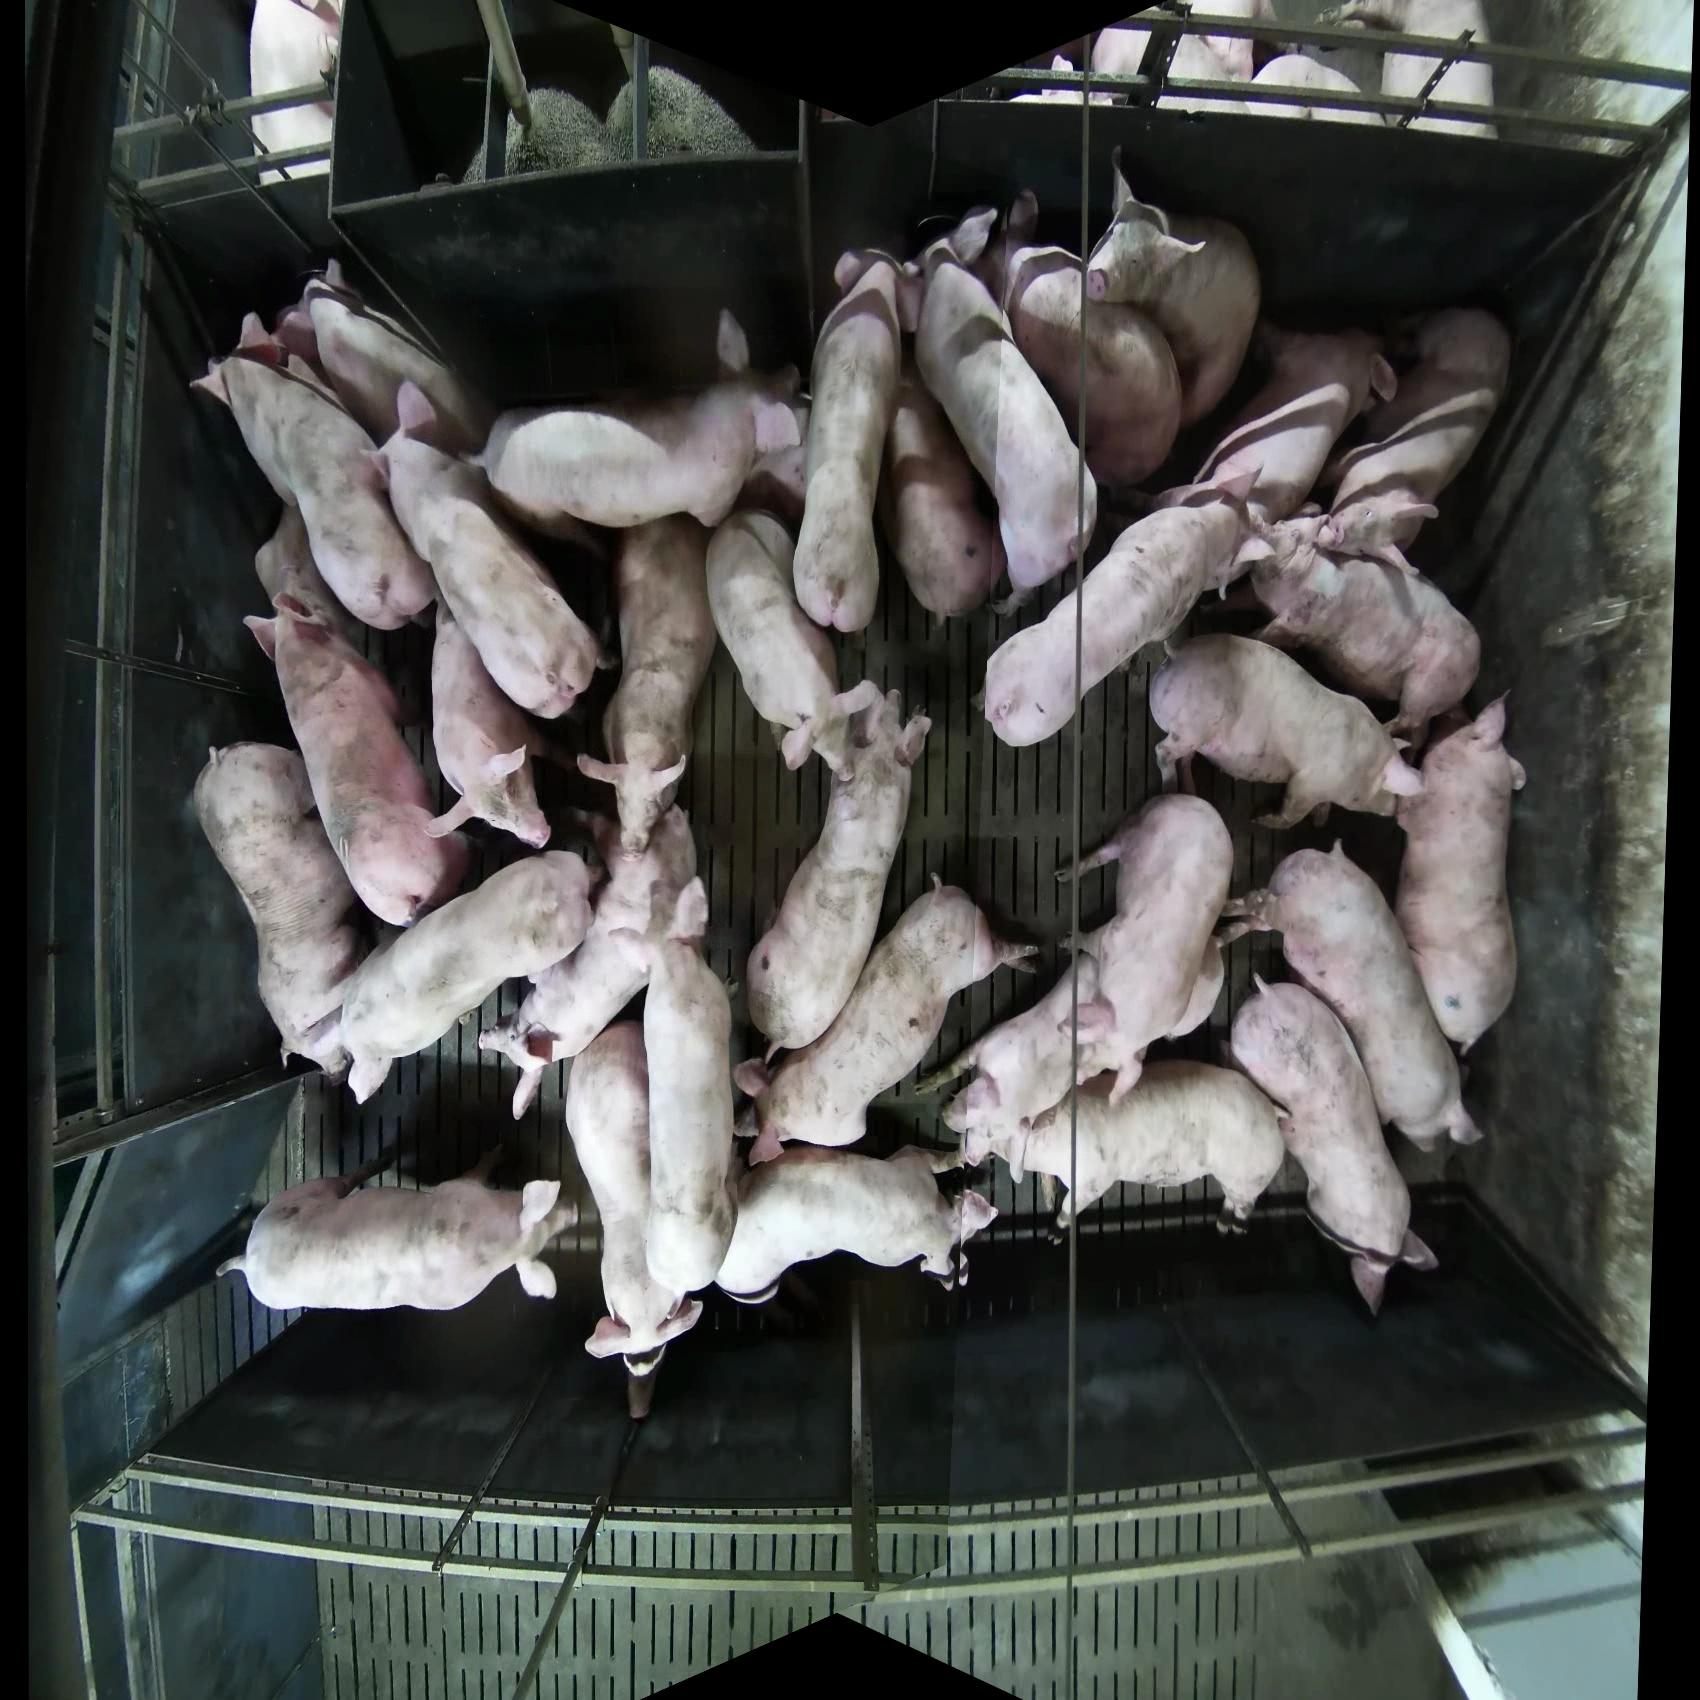pig: (732, 873, 1041, 1168), (1219, 841, 1484, 1155), (889, 223, 1108, 590), (361, 423, 641, 704), (243, 592, 473, 929), (304, 848, 596, 1105), (1228, 970, 1440, 1319), (187, 327, 427, 634), (743, 680, 934, 1063), (476, 802, 705, 1119), (981, 490, 1259, 749), (191, 739, 378, 1077), (216, 1143, 578, 1314), (1244, 508, 1484, 763), (978, 209, 1178, 490), (1146, 632, 1426, 831), (487, 361, 796, 537), (383, 579, 571, 855), (578, 514, 730, 852), (783, 240, 904, 655), (1392, 690, 1529, 1055), (1006, 1059, 1287, 1236), (562, 1018, 702, 1375), (847, 332, 1010, 616), (715, 1143, 999, 1305), (257, 269, 508, 434), (1080, 181, 1272, 392), (1364, 265, 1491, 556), (1210, 307, 1382, 498)
